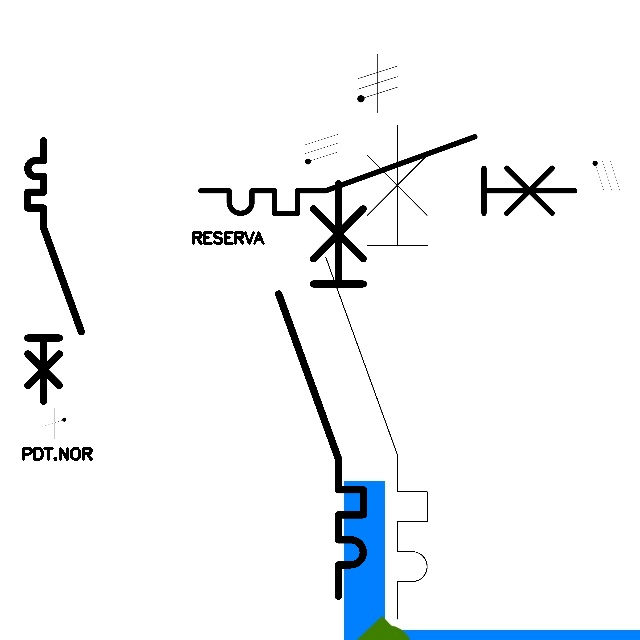interruptor_termomagnetico: (313, 112, 440, 631), (268, 173, 374, 607), (191, 127, 584, 223), (21, 134, 88, 408)
